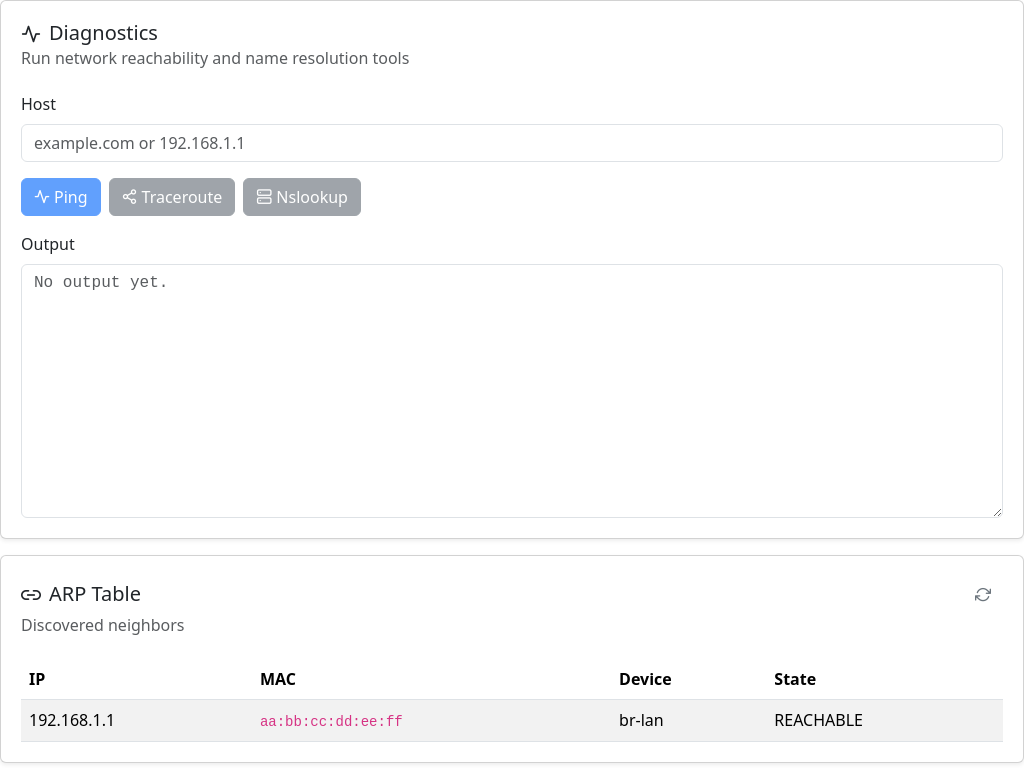
DiagnosticsCard › runs ping with the trimmed host and renders its output
The width and height of the screenshot is (1024, 768).
Type "  example.com  " into the field labelled "Host" at (512, 143), box [21,124,1003,162]
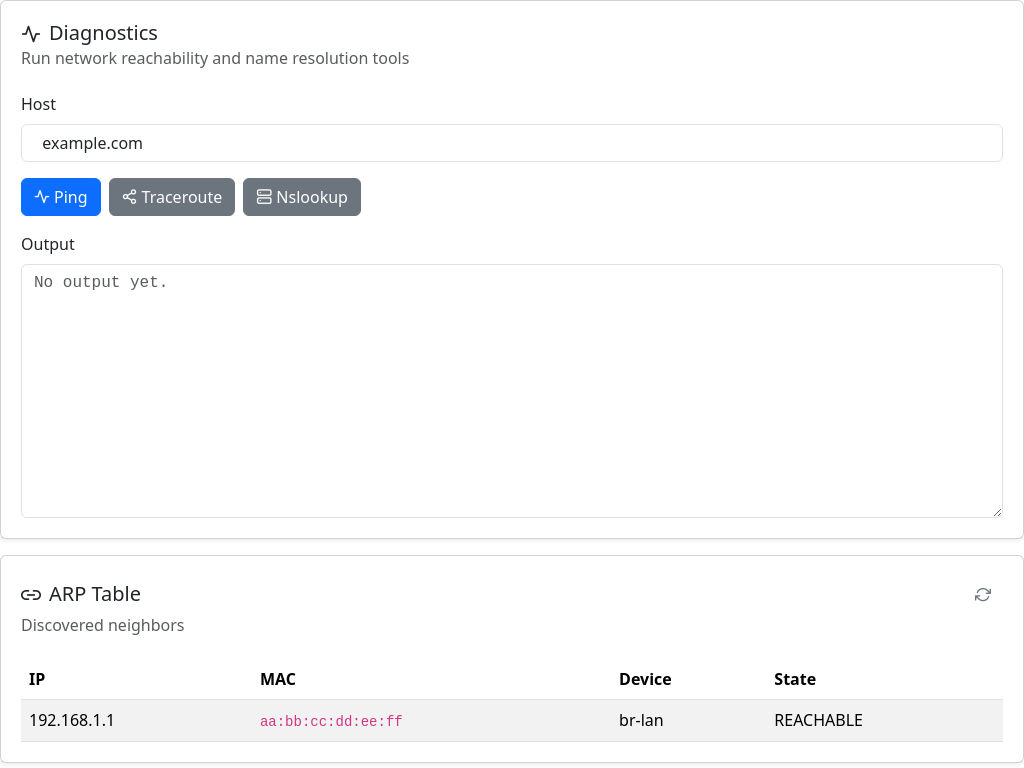
Click the button "Ping" at (61, 197), box [21,178,101,216]
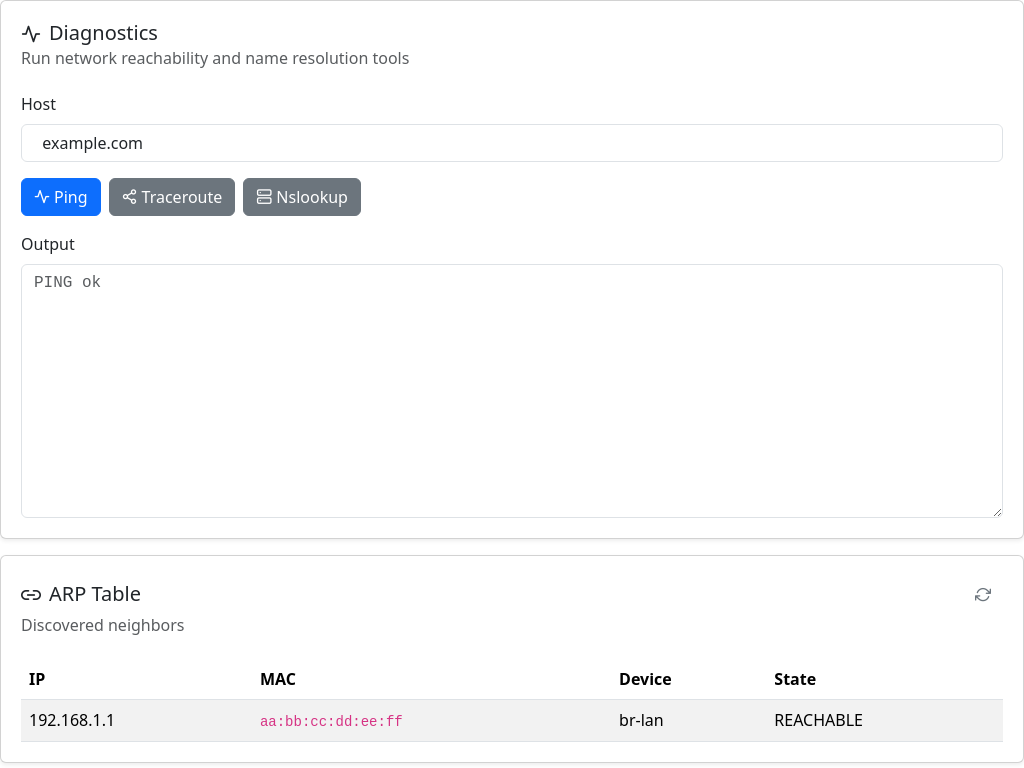
Check: the text box labelled "Output" holds "PING ok", box [21,264,1003,518]
